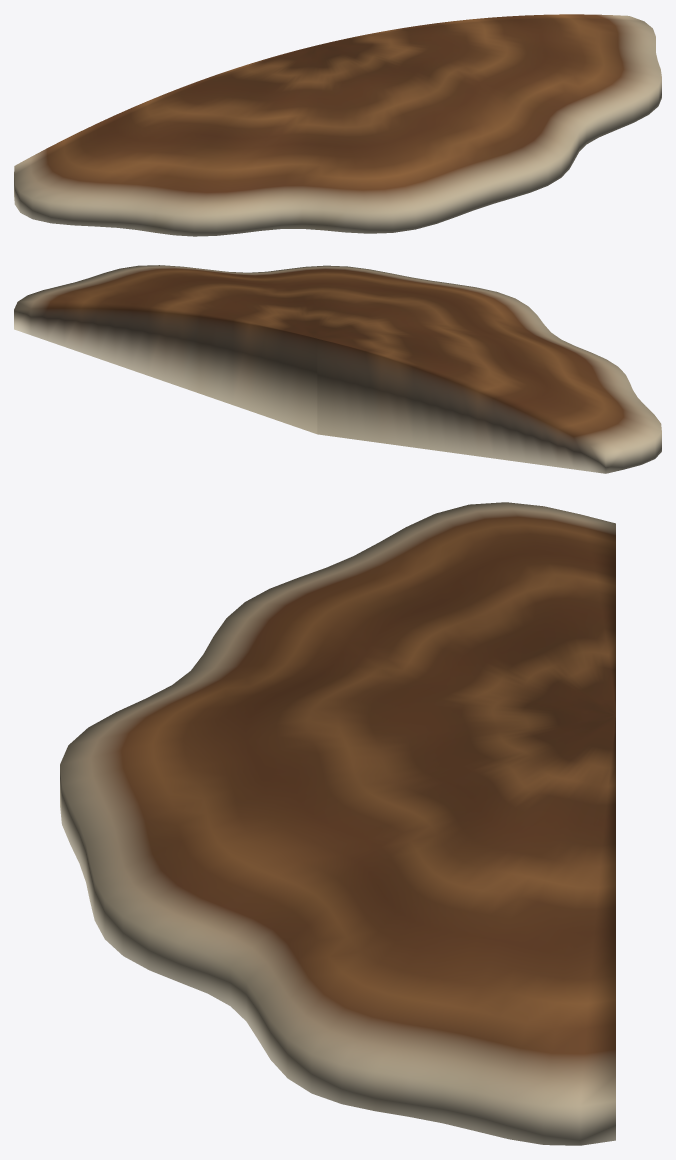
The model's file is ShelfFungus.fbx.
3 views of the same model, one above another, from view 1: azimuth 30°, elevation 25°; view 2: azimuth 150°, elevation 25°; view 3: azimuth 270°, elevation 25° (orthographic). The views are drawn at different scales.
Visible parts, largest first — view 1: ShelfFungus; view 2: ShelfFungus; view 3: ShelfFungus.
Boxes of the visible parts, <box> form: ShelfFungus: <box>14,14,661,236</box>; ShelfFungus: <box>14,265,661,473</box>; ShelfFungus: <box>60,502,615,1145</box>.
Bounding box in the file's own units: 4.6 × 0.68 × 1.79.
